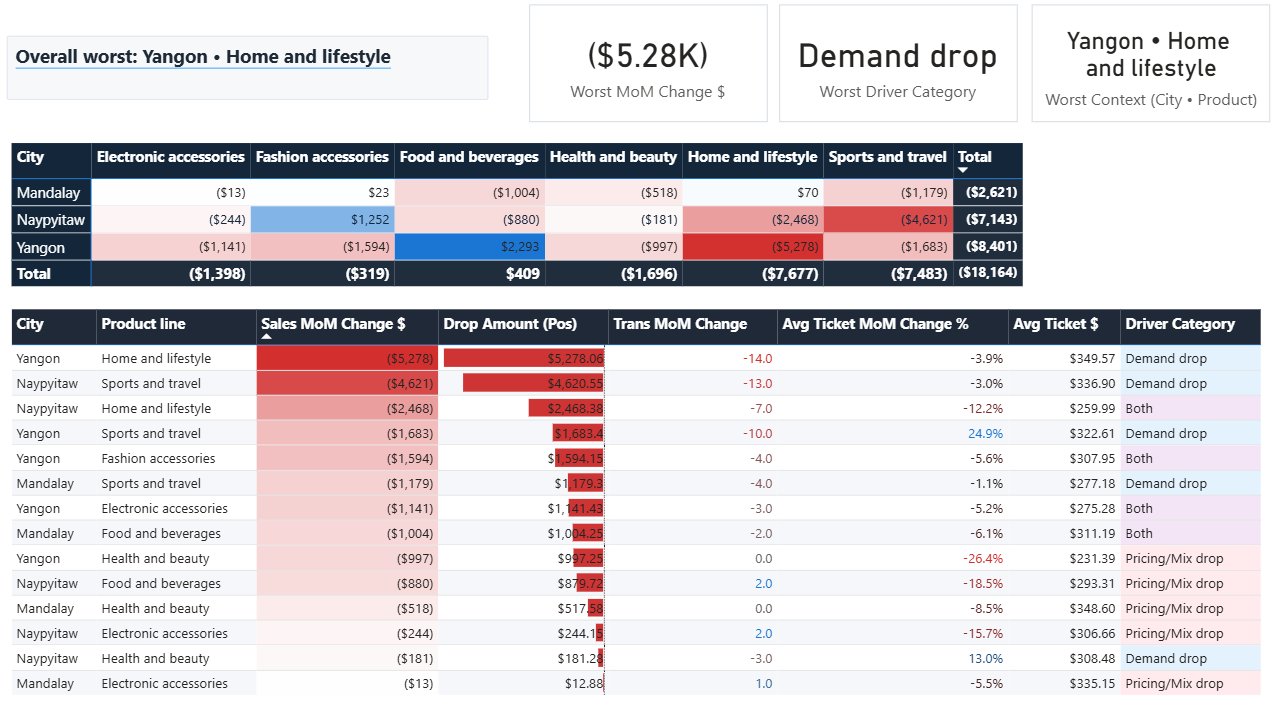

This screenshot's page, from the dashboard's own definition file:
{"tool":"powerbi","page":{"name":"Root Cause","canvas":[1280,720],"ordinal":3},"visuals":[{"type":"pivotTable","fields":{"Rows":["DimCity.City"],"Columns":["DimProduct.Product line"],"Values":["_Measure.Sales MoM Change $"]},"box":[8.4,141.4,1024.7,158.2],"z":0},{"type":"tableEx","fields":{"Values":["DimCity.City","DimProduct.Product line","_Measure.Sales MoM Change $","_Measure.Drop Amount (Pos)","_Measure.Trans MoM Change","_Measure.Avg Ticket MoM Change %","_Measure.Avg Ticket $","_Measure.Driver Category"]},"box":[7.8,307.8,1264.4,404.4],"z":1000},{"type":"card","fields":{"Values":["_Measure.Card - Worst Context (City • Product)"]},"box":[1033.8,7.5,238.8,117.5],"z":2000},{"type":"card","fields":{"Values":["_Measure.Card - Worst Driver Category"]},"box":[781.2,7.5,238.8,117.5],"z":3000},{"type":"card","fields":{"Values":["_Measure.Card - Worst MoM Change $"]},"box":[531.2,7.5,238.8,117.5],"z":4000},{"type":"textbox","box":[8.8,38.8,481.2,63.8],"z":5000}]}

Visuals, with their boxes in screenshot pixels (x1, y1, x2, y2), scaled from the page's 1280x720 canvas onto the 1276x714 screenshot:
pivotTable - DimCity.City x DimProduct.Product line: x1=8 y1=140 x2=1030 y2=297
tableEx - DimCity.City x DimProduct.Product line: x1=8 y1=305 x2=1268 y2=706
card - _Measure.Card - Worst Context (City • Product): x1=1031 y1=7 x2=1269 y2=124
card - _Measure.Card - Worst Driver Category: x1=779 y1=7 x2=1017 y2=124
card - _Measure.Card - Worst MoM Change $: x1=530 y1=7 x2=768 y2=124
textbox: x1=9 y1=38 x2=488 y2=102
